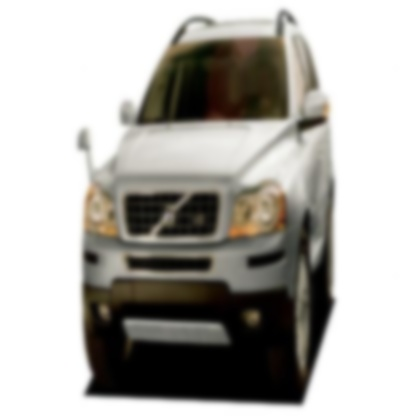Vehicle: (78, 11, 335, 384)
